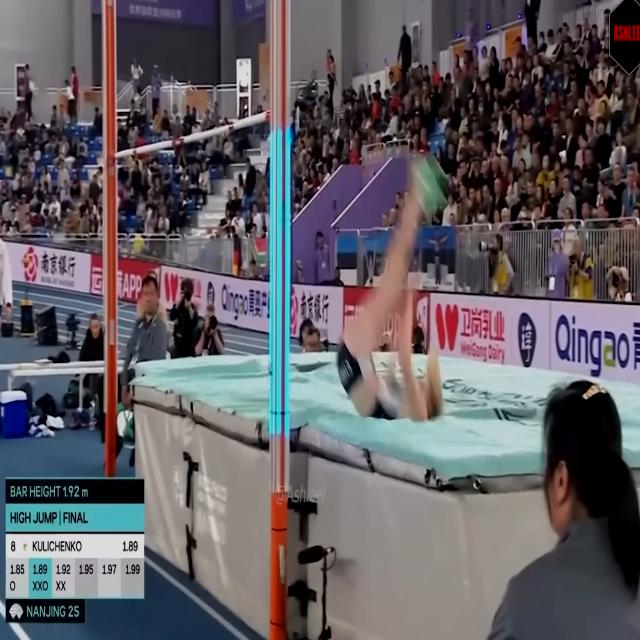land: (339, 156, 449, 419)
